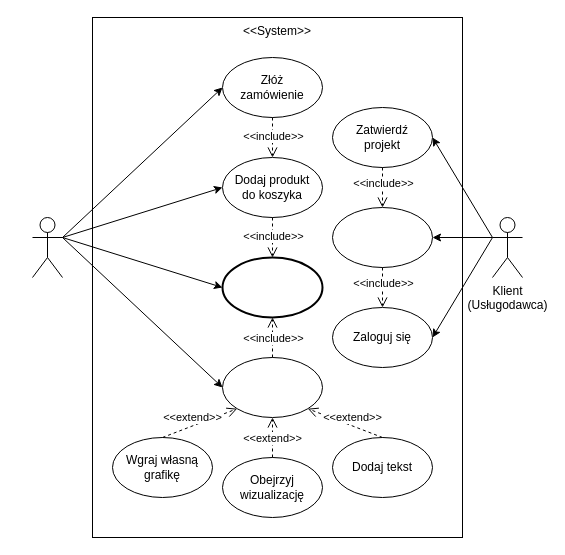
The diagram is 565 pixels wide and 555 high, and some of its shapes have lost their labels. Here are the shapes that lost their labels. From the top down, the centre of each, then its label:
point (47, 247): Użytkownik
point (382, 237): Przejrzyj zamówienia
point (272, 287): Obejrzyj produkt
point (272, 387): Personalizuj produkt
